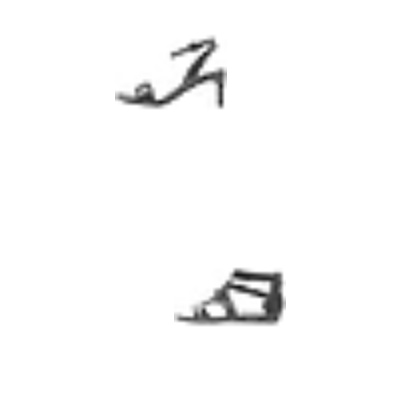1: (344, 51, 400, 107)
4: (79, 87, 107, 115)
6: (146, 20, 174, 48)
Bag: (266, 85, 294, 113)
Coat: (255, 106, 367, 218), (6, 213, 62, 269), (317, 313, 359, 355)
Dress: (134, 103, 218, 187)
Sneaker: (192, 271, 276, 355)
